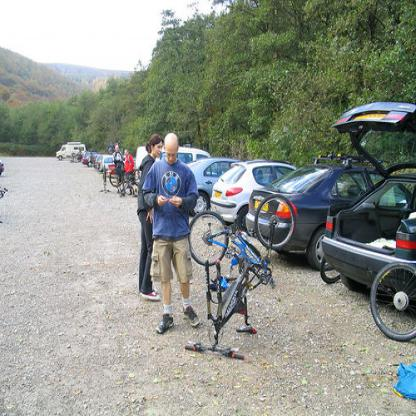bicycle: (185, 193, 300, 360), (111, 166, 143, 198)
car: (246, 153, 416, 272), (324, 102, 416, 300), (212, 159, 300, 231), (186, 158, 244, 218), (135, 145, 213, 185), (56, 141, 88, 163)
person: (144, 133, 203, 336), (138, 133, 164, 298)
